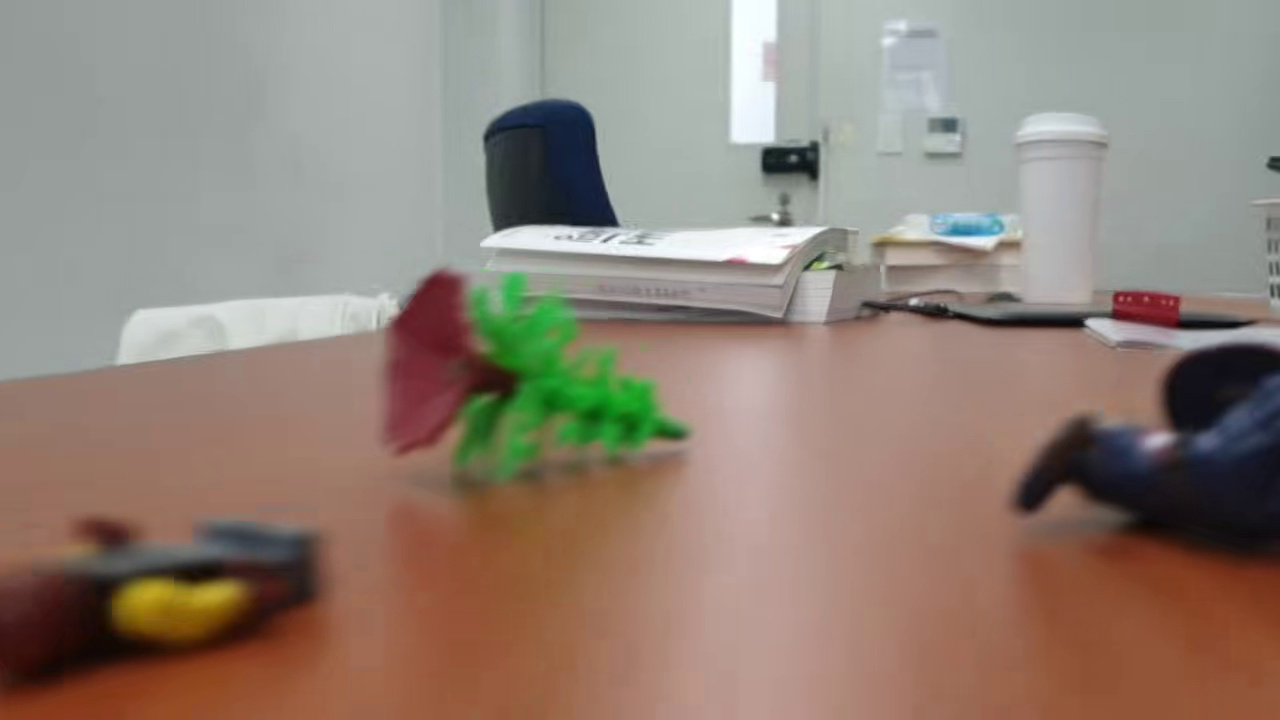people: (1008, 337, 1280, 559), (1, 506, 324, 682)
tree: (378, 268, 694, 485)
